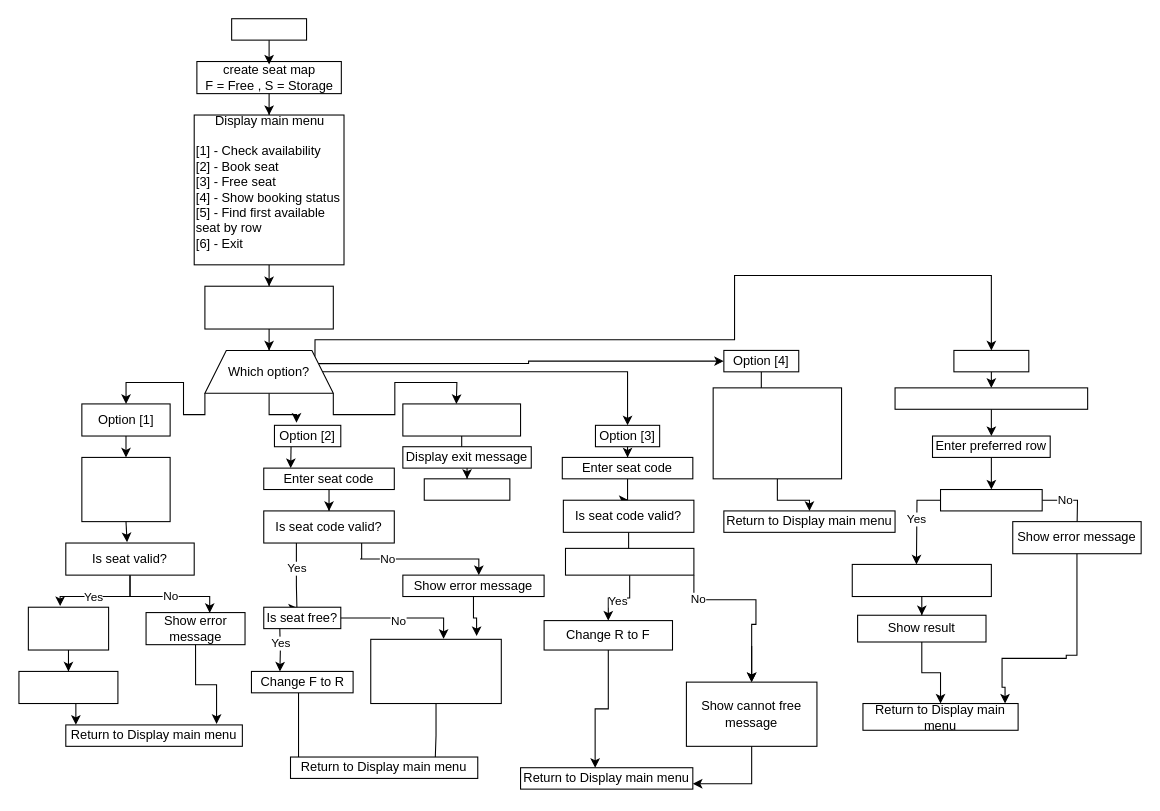
This 1160x811 diagram has some shape labels left out. The centre of each missing label's shape, as x and y in pixels:
"Check status F, R, or S" belongs at (68,628).
"Display rows A to F Display aisle as X Show seat summary" belongs at (777,433).
"End" belongs at (466,489).
"Enter seat code Example: 1A or 8D" belongs at (125,489).
"Find first available seat by row" belongs at (991,398).
"Is row valid?" belongs at (990,499).
"Is seat reserved?" belongs at (629,561).
"Option [5]" belongs at (991,360).
"Option[6]" belongs at (461,419).
"Search row for first F seat" belongs at (921,580).
"Show cannot book message" belongs at (435,671).
"Show seat status" belongs at (68,687).
"start" belongs at (269,29).
"User selects Menu option" belongs at (268,307).
